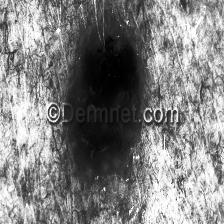Benign Marking or Mole: (66, 25, 138, 168)
